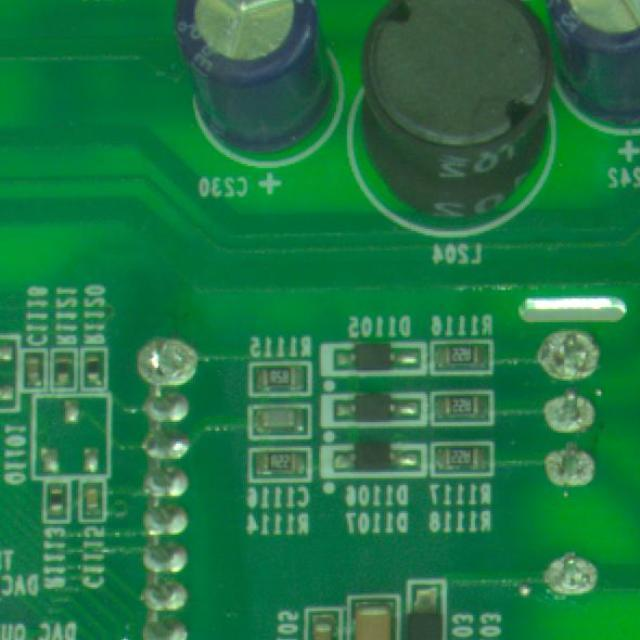Insufficient solder: (120, 334, 222, 392), (534, 320, 612, 380), (546, 548, 616, 602), (534, 386, 600, 435), (542, 444, 602, 490)
